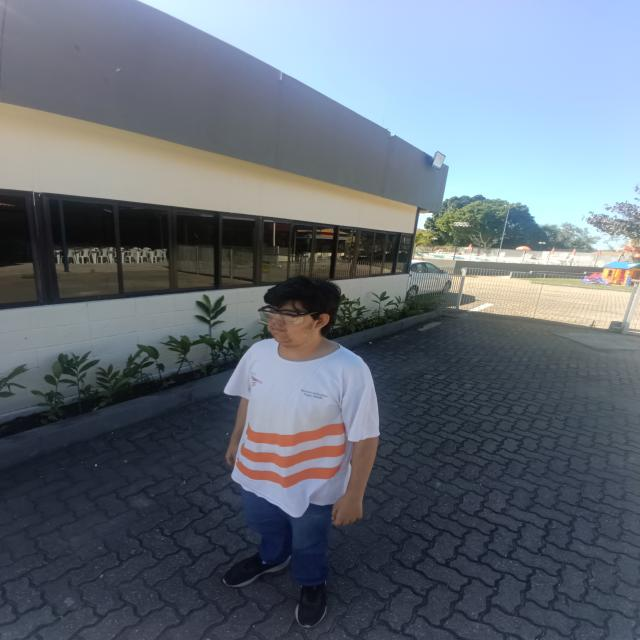oculos-epi: (258, 305, 319, 327)
